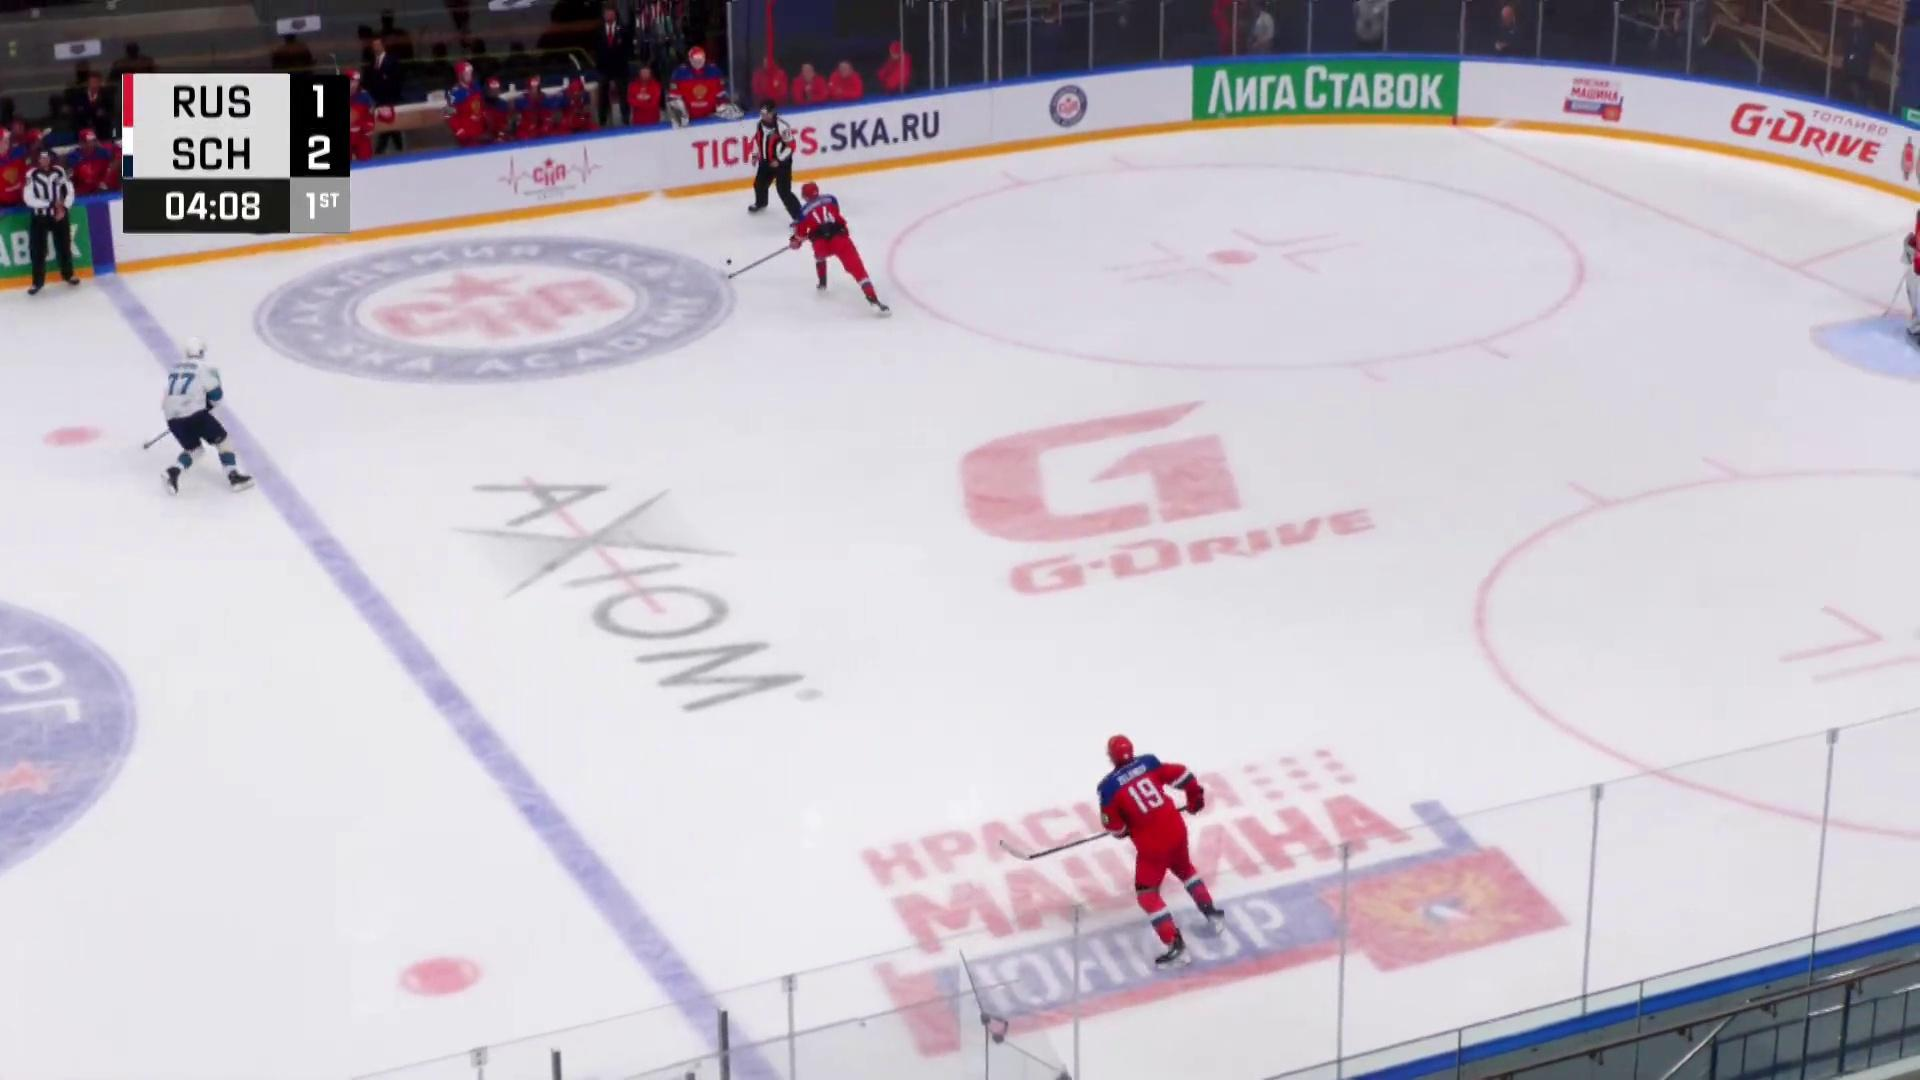ball: (725, 258, 733, 265)
